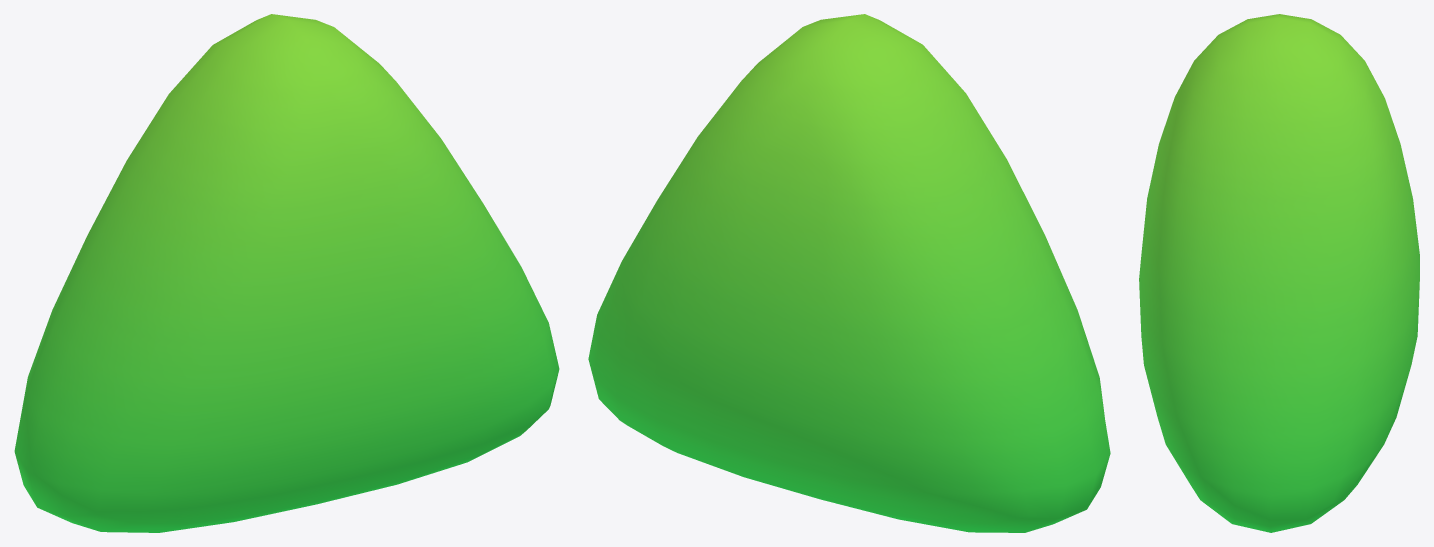
File: Gem_03.glb
3 renders of one model, left to right at view 1: azimuth 30°, elevation 25°; view 2: azimuth 150°, elevation 25°; view 3: azimuth 270°, elevation 25°, orthographic. The views are drawn at different scales.
Visible parts, largest first — view 1: Gem_03; view 2: Gem_03; view 3: Gem_03.
Part boxes in pixels (left/top/right/bottom): Gem_03: left=14, top=14, right=559, bottom=532; Gem_03: left=588, top=14, right=1110, bottom=532; Gem_03: left=1139, top=14, right=1419, bottom=532.
Size of the model in its own units: 1.22 by 1.08 by 0.6318.
1 material, 1 textured.
